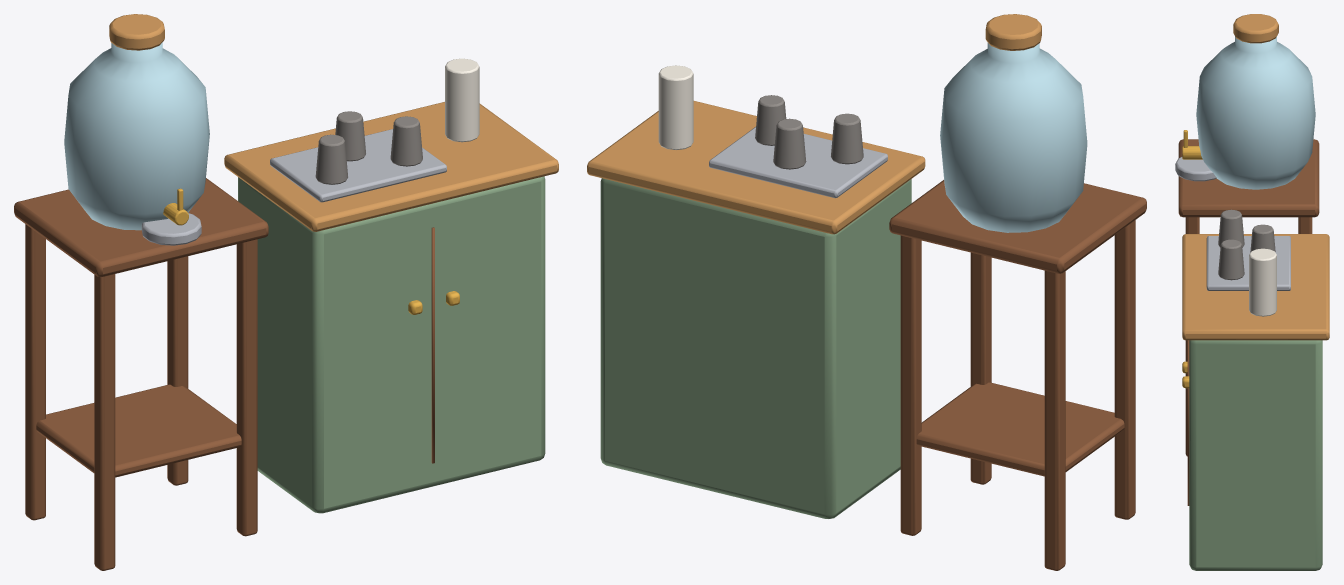
The model's file is water_cooler_jug.glb.
The picture shows the model from 3 angles, left to right: view 1: azimuth 30°, elevation 25°; view 2: azimuth 150°, elevation 25°; view 3: azimuth 270°, elevation 25°; orthographic projection. The views are drawn at different scales.
Visible parts, largest first — view 1: water_cooler_jug; view 2: water_cooler_jug; view 3: water_cooler_jug.
Part boxes in pixels (x1,y1,x2,y2): water_cooler_jug: (14, 14, 558, 570); water_cooler_jug: (587, 14, 1146, 570); water_cooler_jug: (1175, 14, 1329, 570).
Size of the model in its own units: 1.24 by 1.27 by 0.44.
